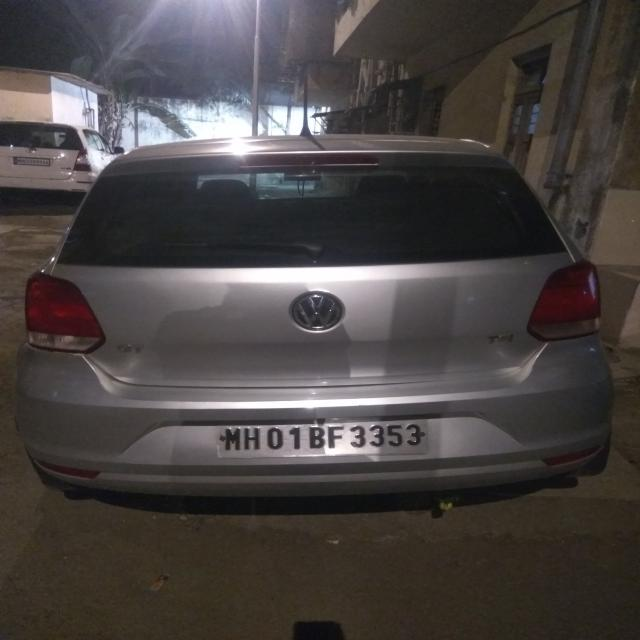Number-Plate: (214, 416, 435, 460)
